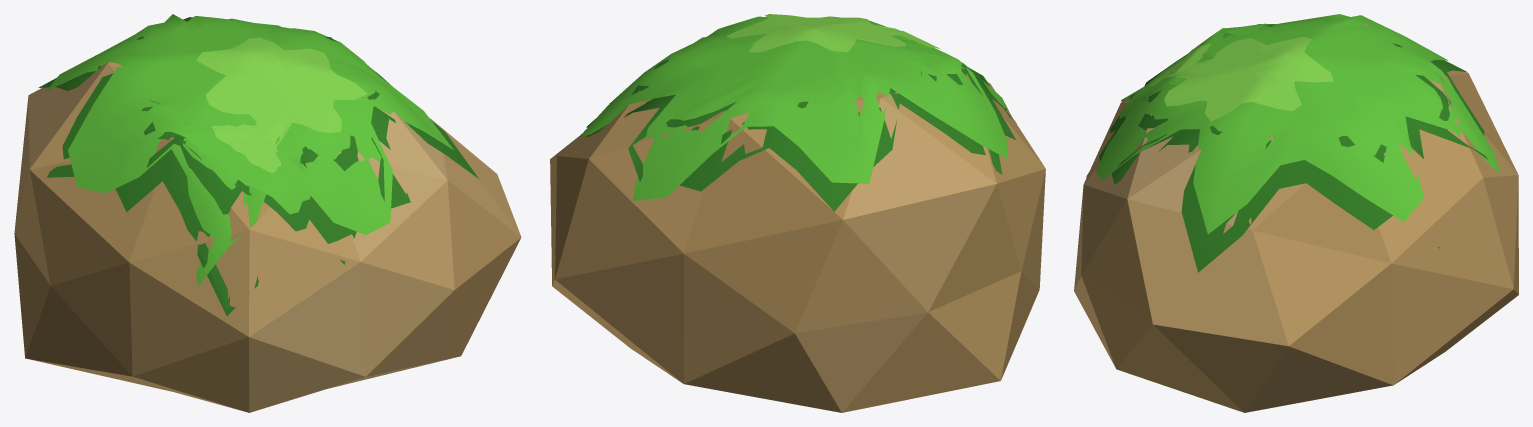
The model's file is rock_2_cap.glb.
3 renders of one model, left to right at view 1: azimuth 30°, elevation 25°; view 2: azimuth 150°, elevation 25°; view 3: azimuth 270°, elevation 25°, orthographic. The views are drawn at different scales.
Visible parts, largest first — view 1: rock_2_cap; view 2: rock_2_cap; view 3: rock_2_cap.
Boxes of the visible parts, x1,y1,x2,y2 form: rock_2_cap: (14,14,521,412); rock_2_cap: (550,14,1045,412); rock_2_cap: (1074,14,1518,412).
Size of the model in its own units: 1.89 by 1.2 by 1.67.
